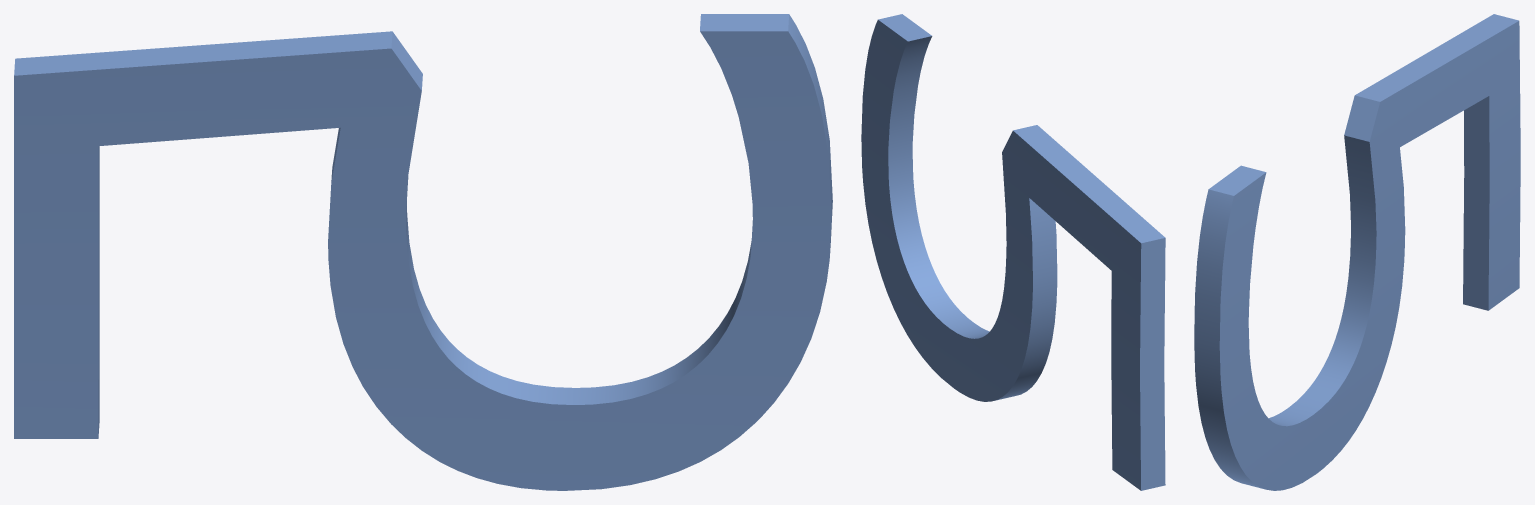
The model's file is Number_5.gltf.
3 renders of one model, left to right at view 1: azimuth 30°, elevation 25°; view 2: azimuth 150°, elevation 25°; view 3: azimuth 270°, elevation 25°, orthographic. The views are drawn at different scales.
Parts seen in each view (by area): view 1: Sub_7_Cell_1_2_Number_5; view 2: Sub_7_Cell_1_2_Number_5; view 3: Sub_7_Cell_1_2_Number_5.
Part boxes in pixels (box(x1,y1,x2,y2)): Sub_7_Cell_1_2_Number_5: box(14, 14, 832, 490); Sub_7_Cell_1_2_Number_5: box(861, 14, 1165, 490); Sub_7_Cell_1_2_Number_5: box(1194, 14, 1520, 490).
Bounding box in the file's own units: 0.0228 × 0.0158 × 0.0139.
